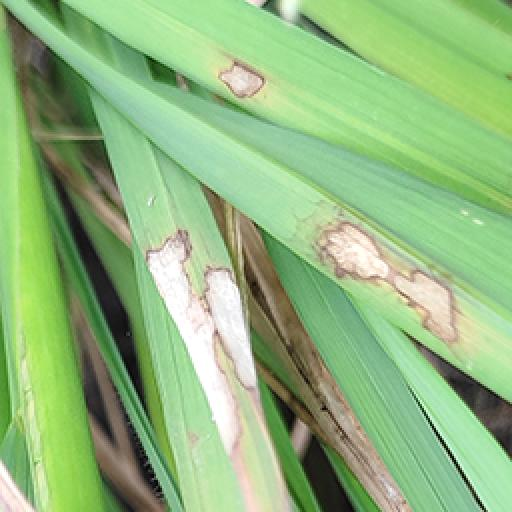Leaf Blast Disease: (220, 212, 416, 512), (136, 228, 258, 462), (312, 212, 462, 350), (208, 48, 270, 110)
